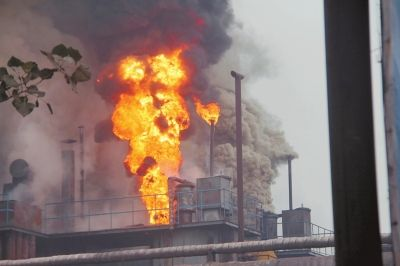fire: (104, 55, 190, 225)
smoke: (52, 3, 222, 47)
